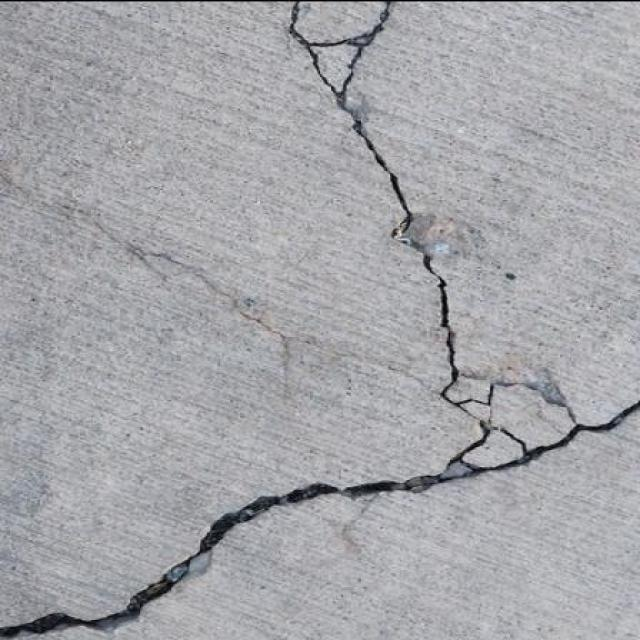Crack: (0, 0, 639, 634), (198, 273, 333, 354), (366, 356, 428, 388), (64, 204, 113, 236)
